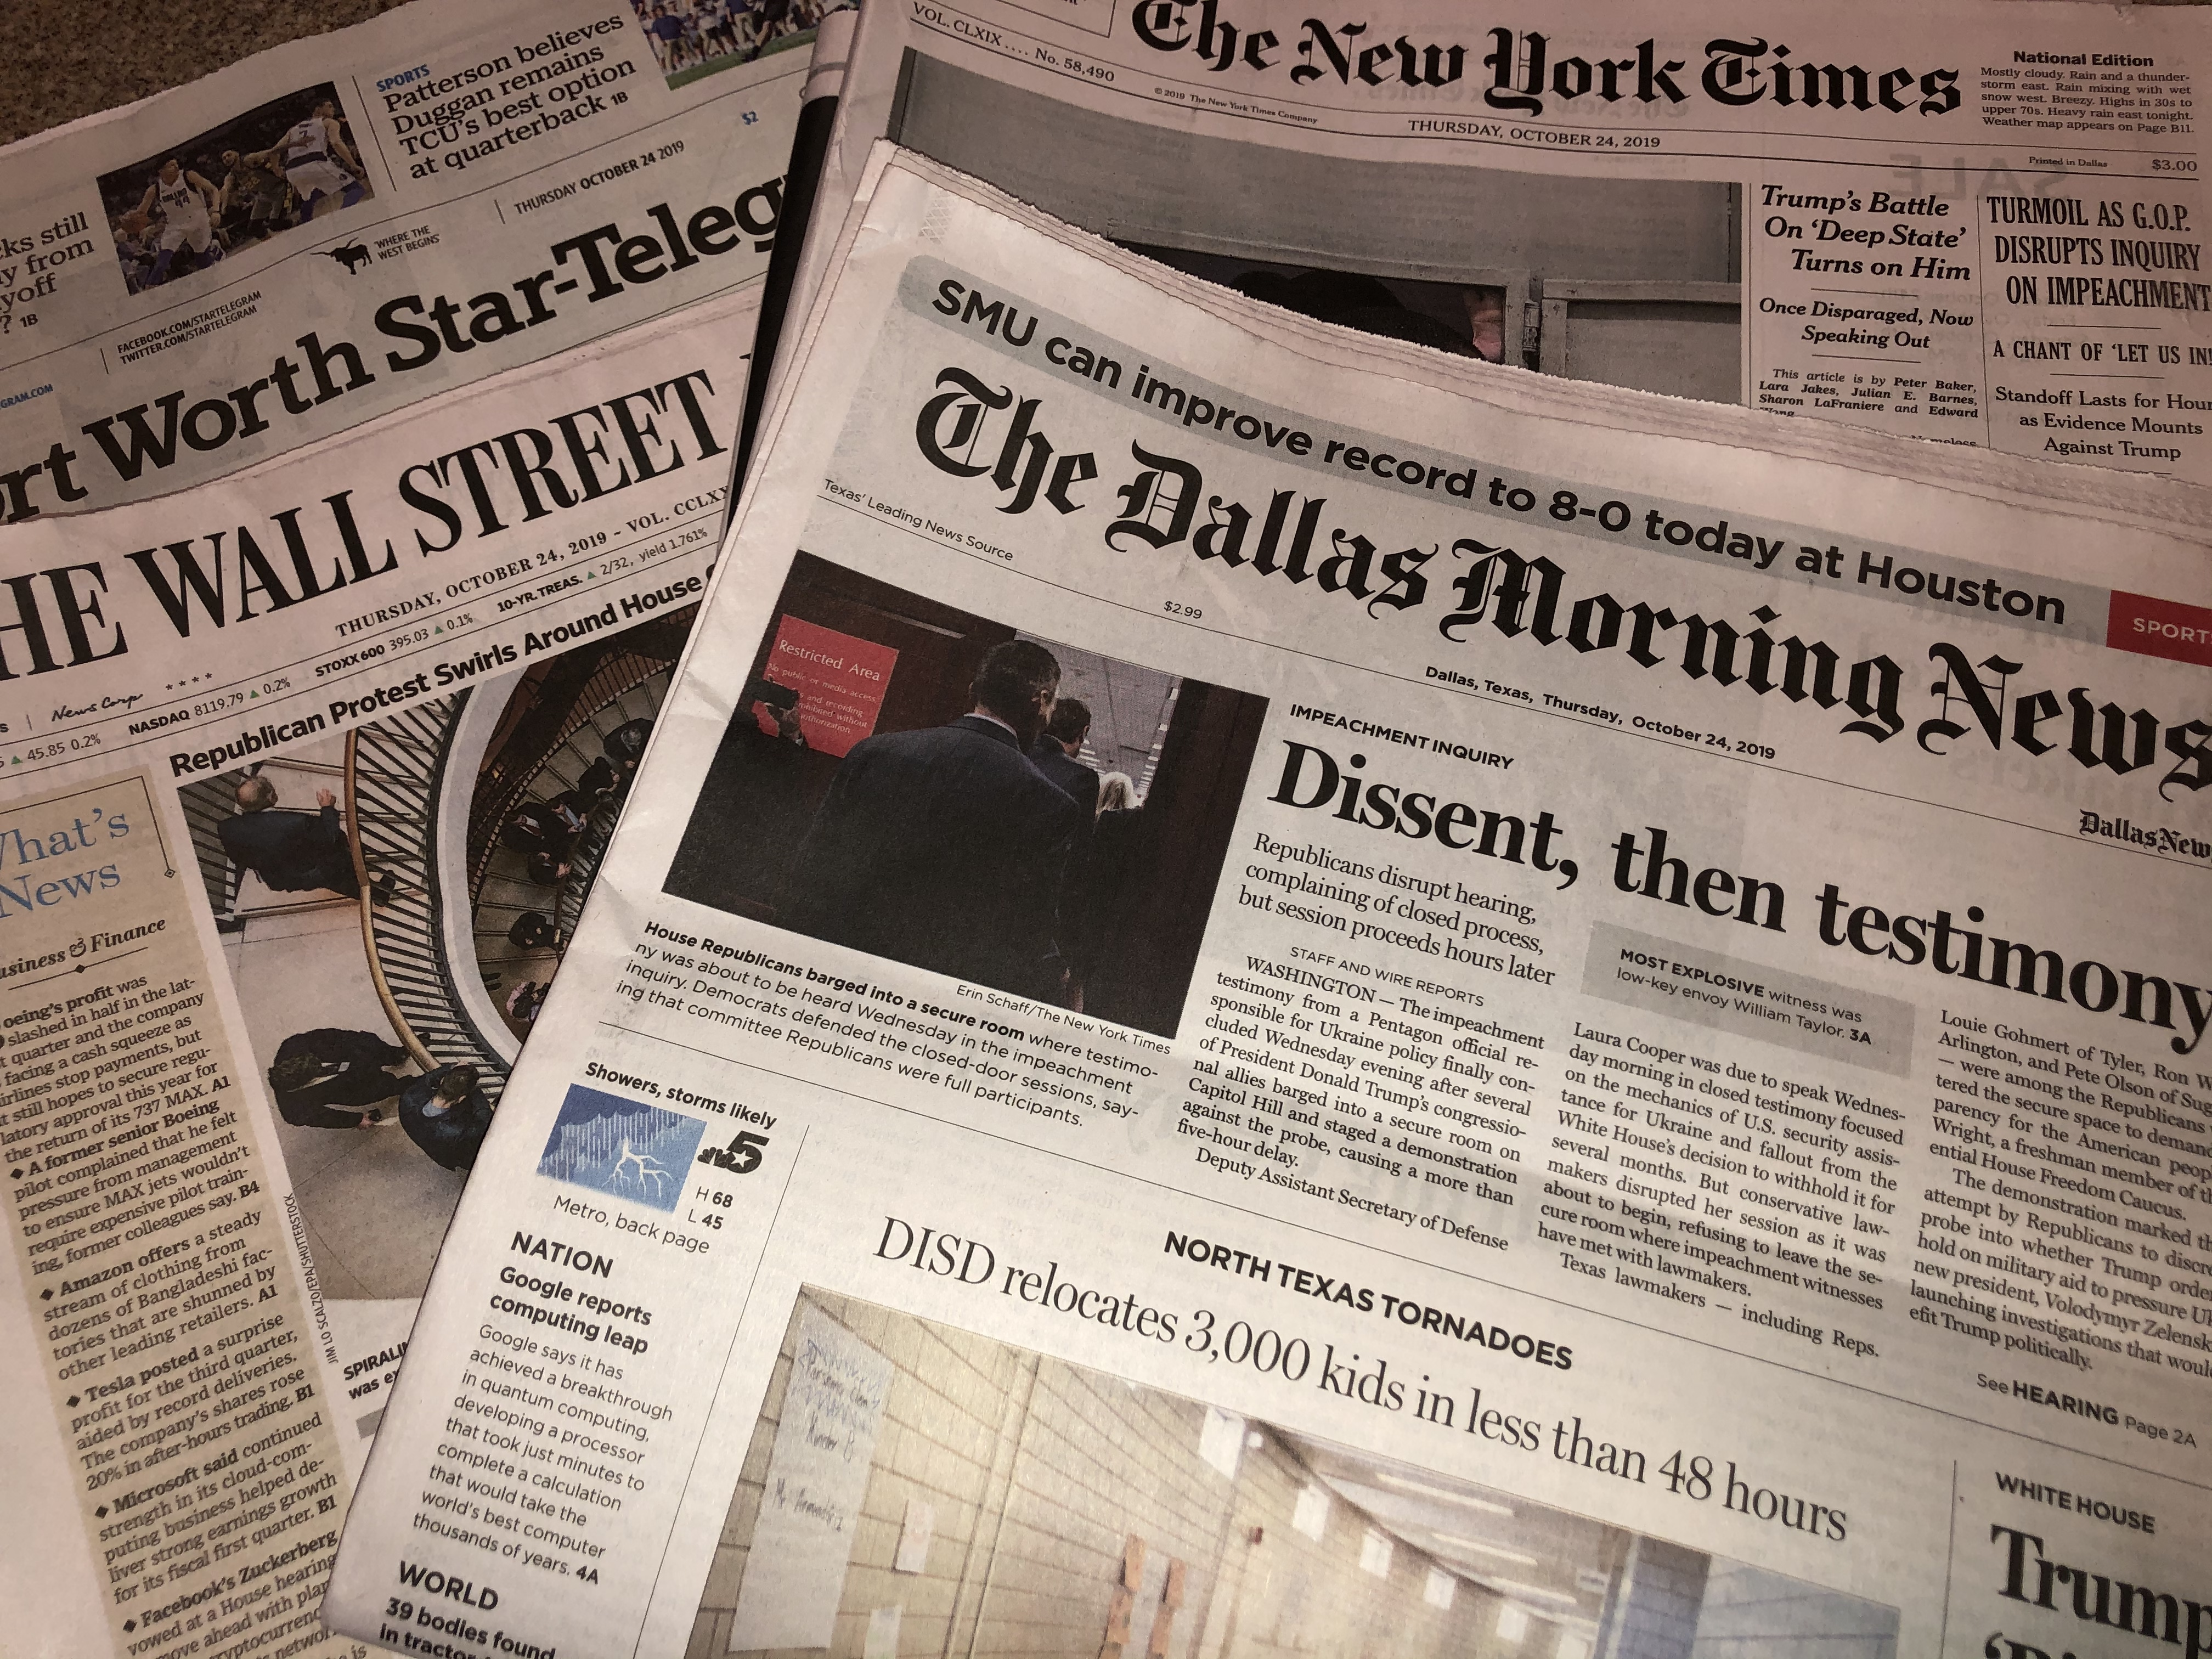news_paper: (223, 192, 2212, 1650), (0, 16, 1710, 1065), (538, 5, 2212, 1007)
